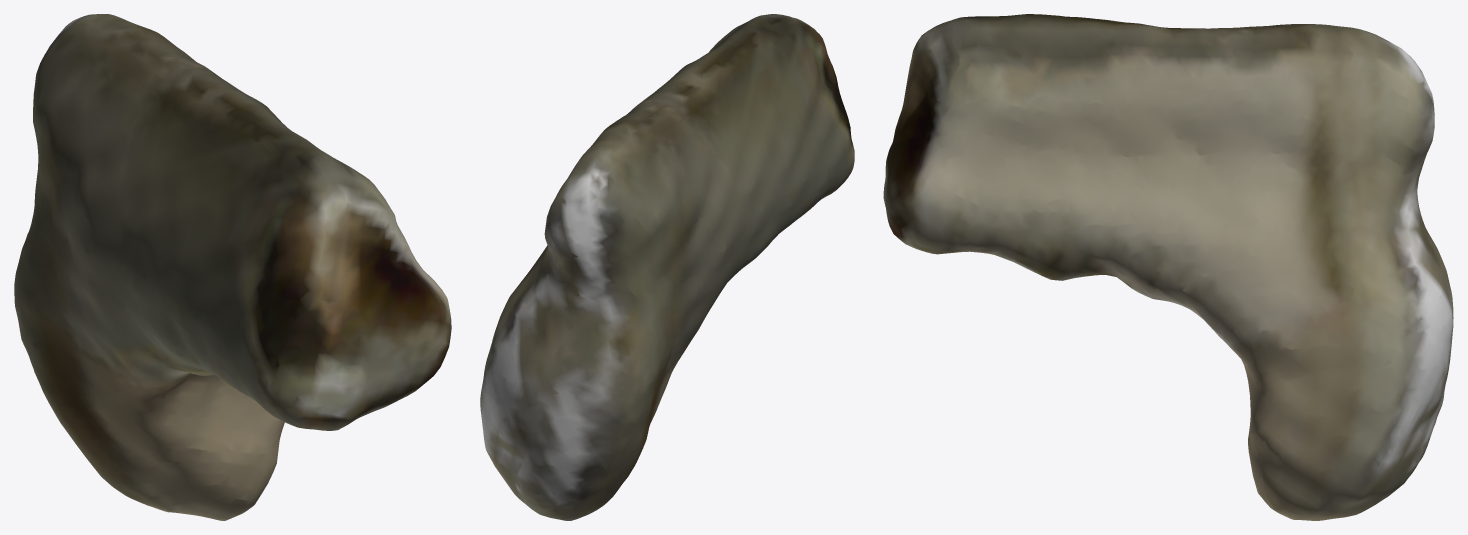
The model's file is shoe1.glb.
3 renders of one model, left to right at view 1: azimuth 30°, elevation 25°; view 2: azimuth 150°, elevation 25°; view 3: azimuth 270°, elevation 25°, orthographic. The views are drawn at different scales.
Size of the model in its own units: 0.4295 by 0.899 by 0.9999.
